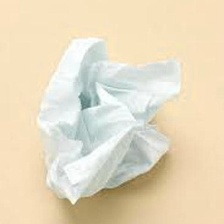tissue: (29, 29, 187, 210)
